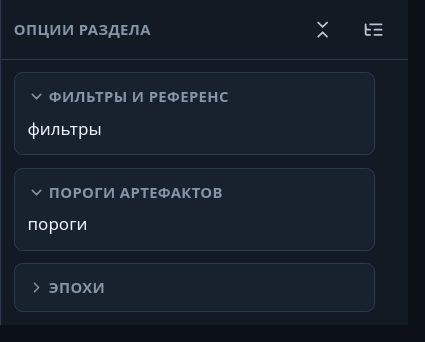
Test: правый сайдбар: меню быстрого перемещения › показывает в хедере секции панели в порядке их следования
The image size is (425, 342).
Step 1. Click the button named "Меню быстрого перемещения по секциям" → point(374, 29), box [353,8,395,50]
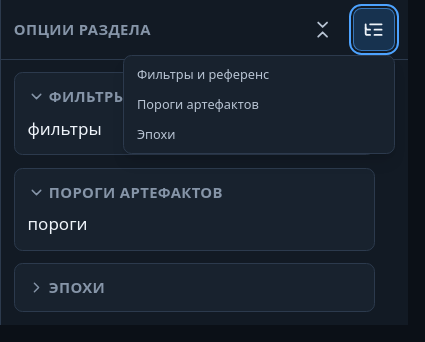
expect the menu items read "Фильтры и референс", "Пороги артефактов", "Эпохи", in this order: met, box [128,60,390,90]; [128,90,390,119]; [128,120,390,149]
